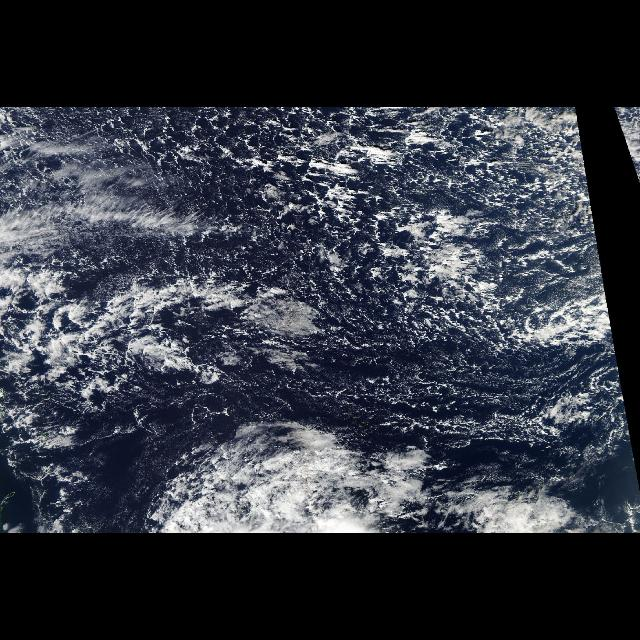Fish: (8, 225, 270, 409)
Gravel: (1, 108, 628, 430), (612, 108, 640, 184)
